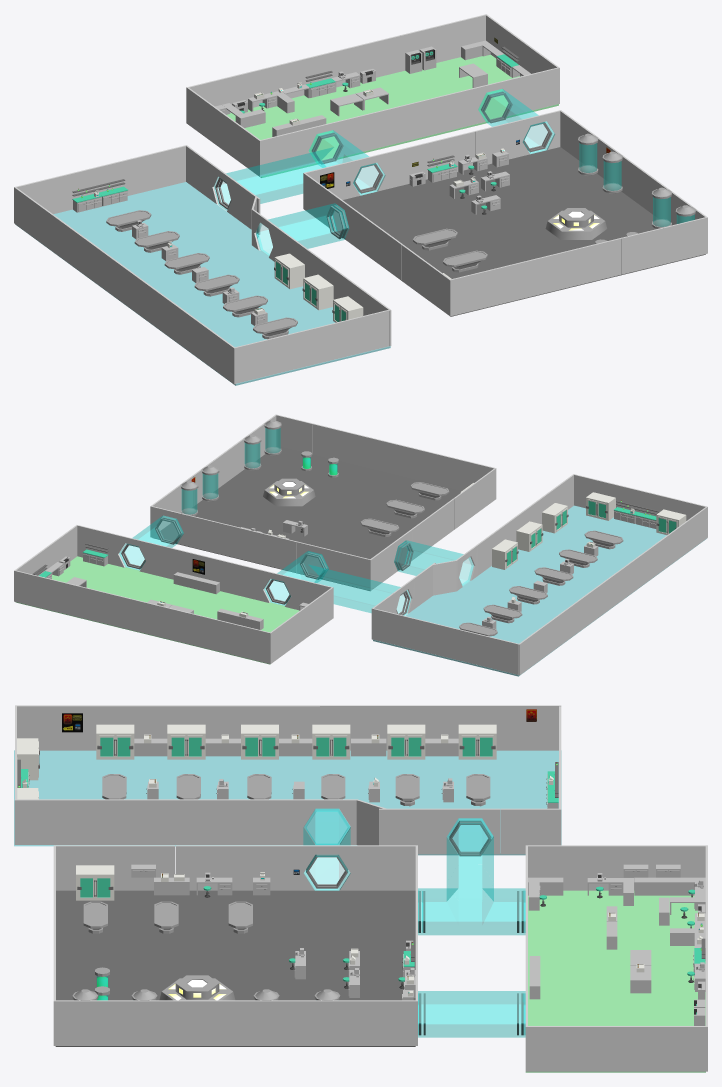
Rendered from lab.fbx.
The picture shows the model from 3 angles, top to bottom: view 1: azimuth 30°, elevation 25°; view 2: azimuth 150°, elevation 25°; view 3: azimuth 270°, elevation 25°; orthographic projection. The views are drawn at different scales.
Parts seen in each view (by area): view 1: labs, lab_obj_prefabs; view 2: labs, lab_obj_prefabs; view 3: labs, lab_obj_prefabs.
Part boxes in pixels (x1=…): labs: x1=14, y1=14, x2=707, y2=385; lab_obj_prefabs: x1=72, y1=37, x2=695, y2=339; labs: x1=14, y1=414, x2=707, y2=676; lab_obj_prefabs: x1=32, y1=419, x2=686, y2=636; labs: x1=14, y1=705, x2=707, y2=1072; lab_obj_prefabs: x1=17, y1=709, x2=705, y2=1025.
Bounding box in the file's own units: 14235 × 1427 × 12974.
21 materials, 2 textured.
